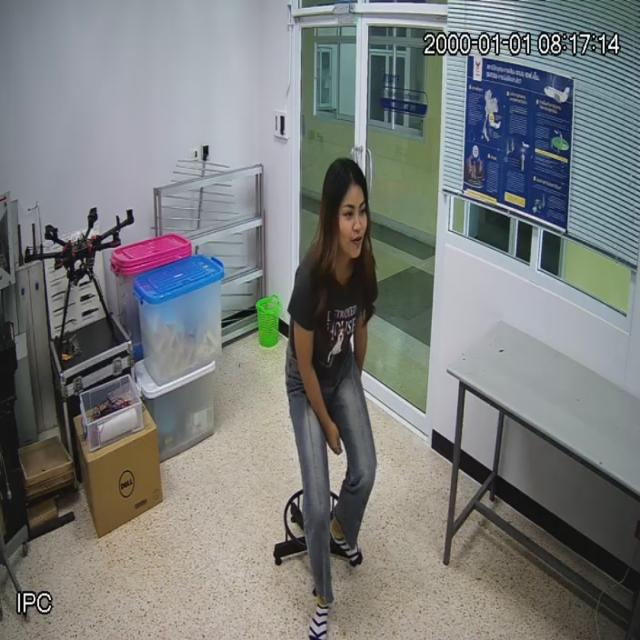normal: (271, 149, 378, 640)
